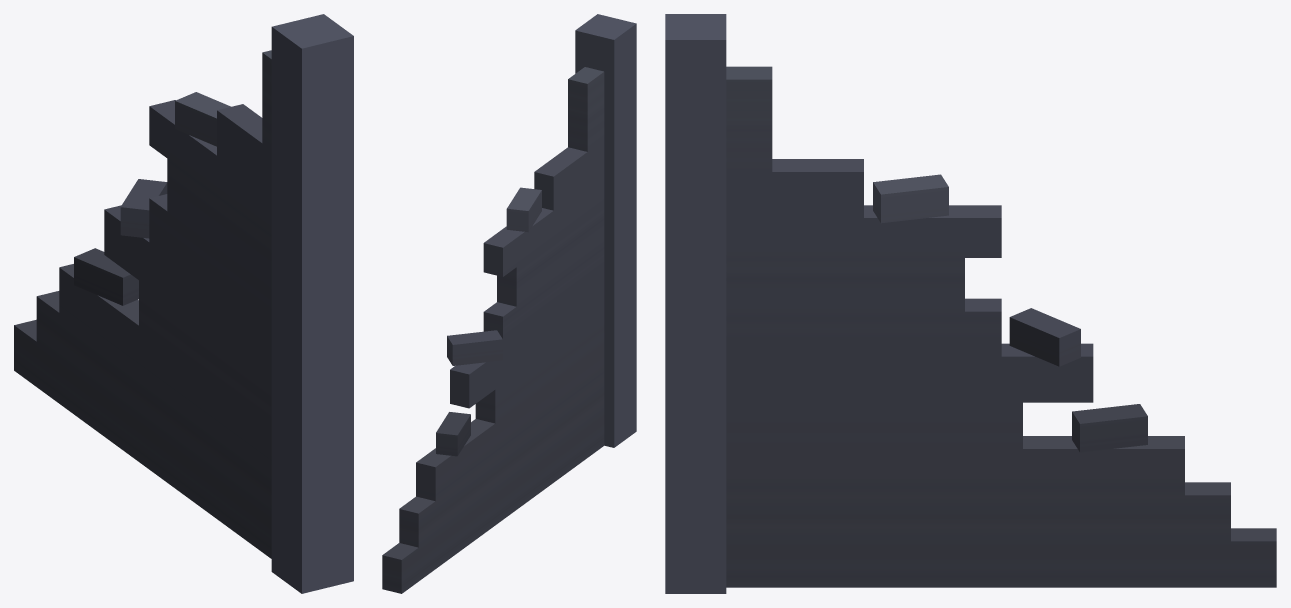
File: wall-broken.glb
3 views of the same model, side by side, from view 1: azimuth 30°, elevation 25°; view 2: azimuth 150°, elevation 25°; view 3: azimuth 270°, elevation 25° (orthographic). The views are drawn at different scales.
Parts seen in each view (by area): view 1: wall-broken; view 2: wall-broken; view 3: wall-broken.
Part boxes in pixels (bbox=[...]): wall-broken: bbox=[14, 14, 353, 593]; wall-broken: bbox=[382, 14, 636, 593]; wall-broken: bbox=[665, 14, 1276, 593].
Bounding box in the file's own units: 0.1168 × 1 × 1.
Materials: 1 (1 with a texture image).
